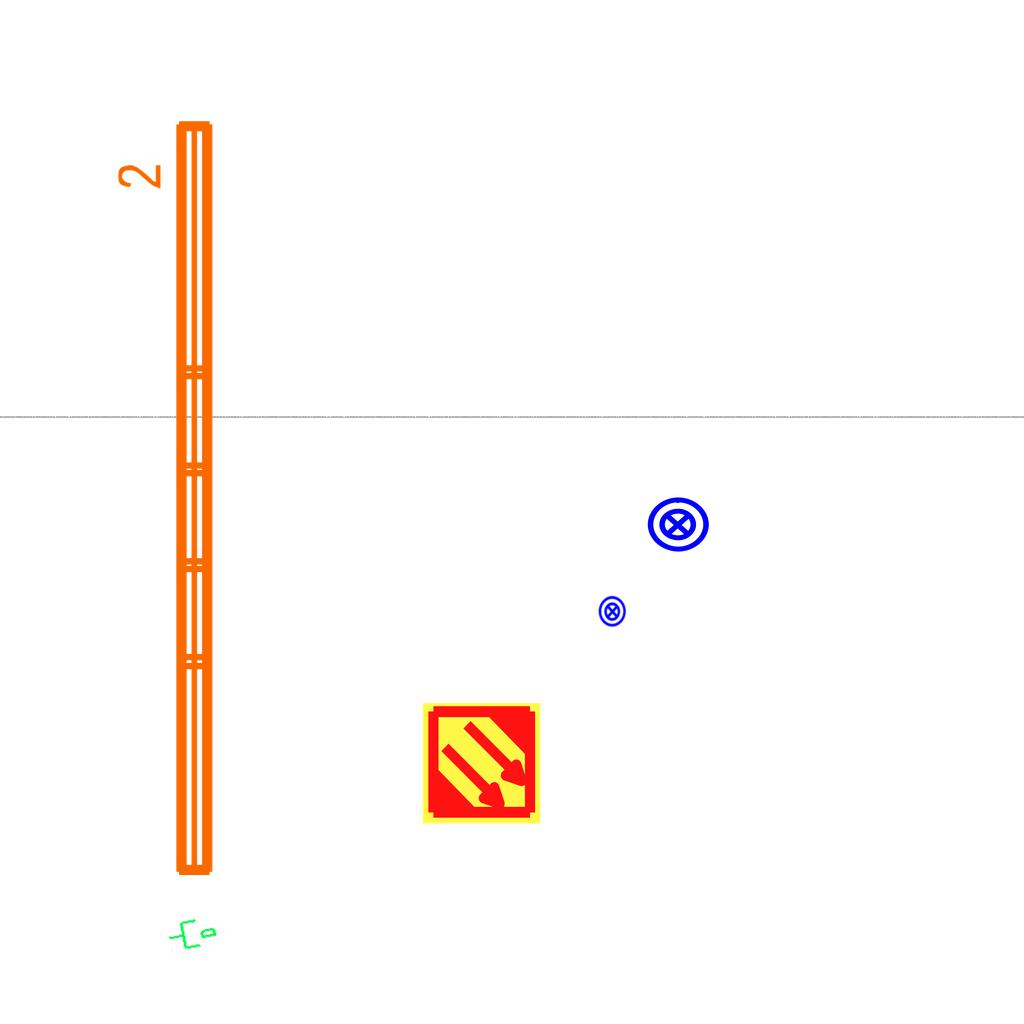ASR_Ansaugrauchmelder: (419, 701, 544, 826)
Ambulanz_Pendelleuchte_LED: (113, 112, 225, 886)
Datenanschluss_einfach: (164, 911, 220, 955)
Taster_beleuchtet: (645, 492, 711, 558), (596, 595, 629, 628)
